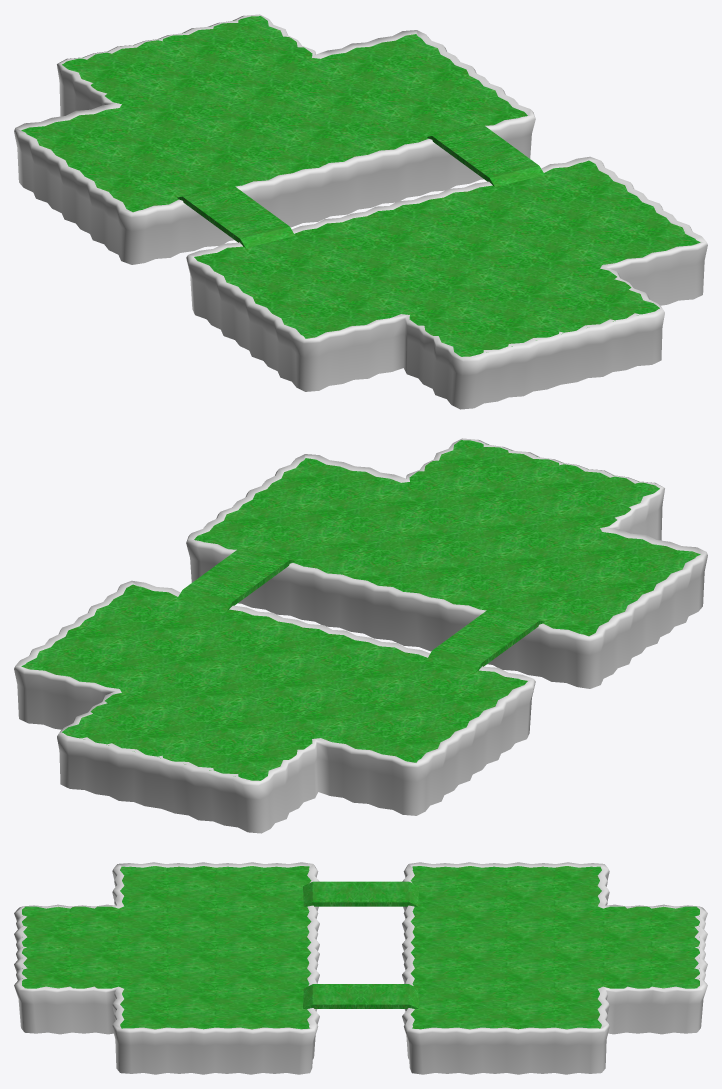
Rendered from OfflineMap_1.fbx.
3 renders of one model, top to bottom at view 1: azimuth 30°, elevation 25°; view 2: azimuth 150°, elevation 25°; view 3: azimuth 270°, elevation 25°, orthographic. The views are drawn at different scales.
Parts seen in each view (by area): view 1: Land, Siding, Bridge; view 2: Land, Siding, Bridge; view 3: Land, Siding, Bridge.
Boxes of the visible parts, x1=… form: Land: x1=21, y1=16, x2=700, y2=356; Siding: x1=14, y1=14, x2=707, y2=409; Bridge: x1=177, y1=123, x2=544, y2=247; Land: x1=21, y1=440, x2=700, y2=780; Siding: x1=14, y1=438, x2=707, y2=833; Bridge: x1=177, y1=547, x2=544, y2=671; Land: x1=22, y1=866, x2=699, y2=1029; Siding: x1=14, y1=862, x2=707, y2=1074; Bridge: x1=303, y1=881, x2=418, y2=1008.
Size of the model in its own units: 831 by 110 by 1433.
